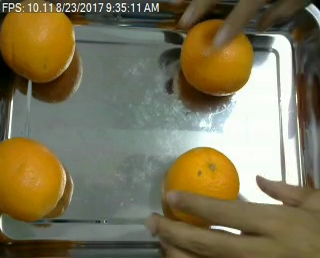Orange: (1, 137, 69, 220), (2, 13, 77, 83)
